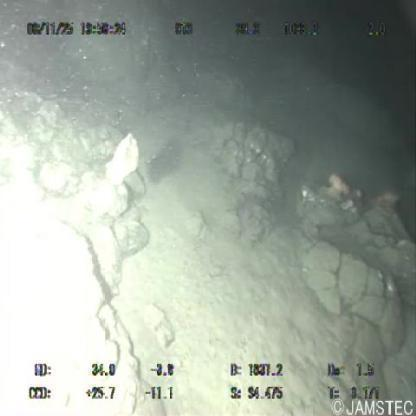Rác: (104, 134, 140, 187)
